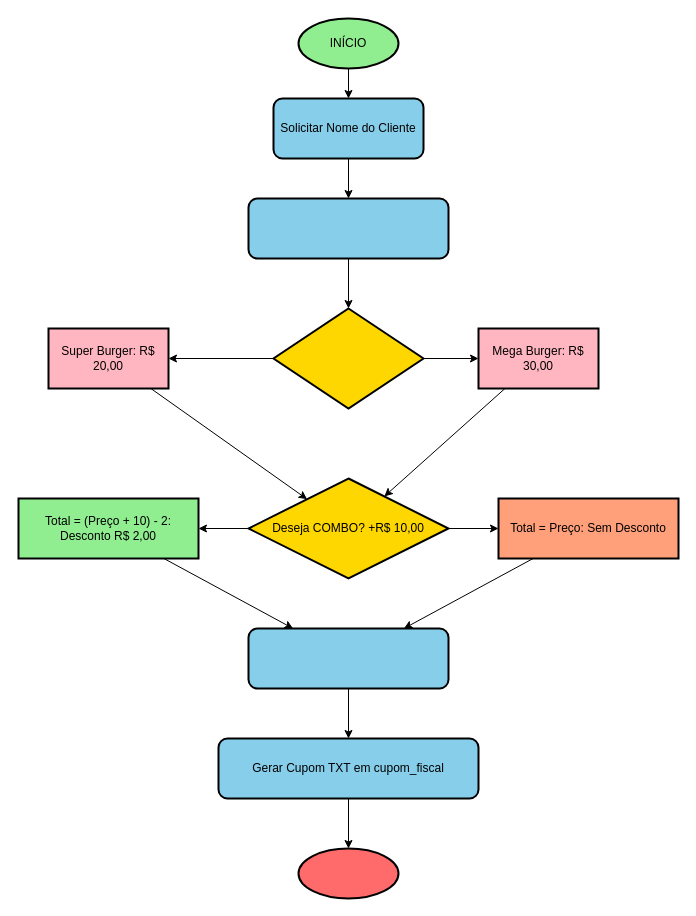
Image size: 696x916. Some labels were removed from this diagram. Here are the shapes that lost their labels. From the top down, the box of each, then its label:
(247, 197, 449, 259): Exibir Cardápio de Lanches
(272, 307, 424, 409): Qual Lanche Deseja?
(247, 627, 449, 689): Gerar Série: Qtd de Cupons + 1
(297, 847, 399, 899): FIM
